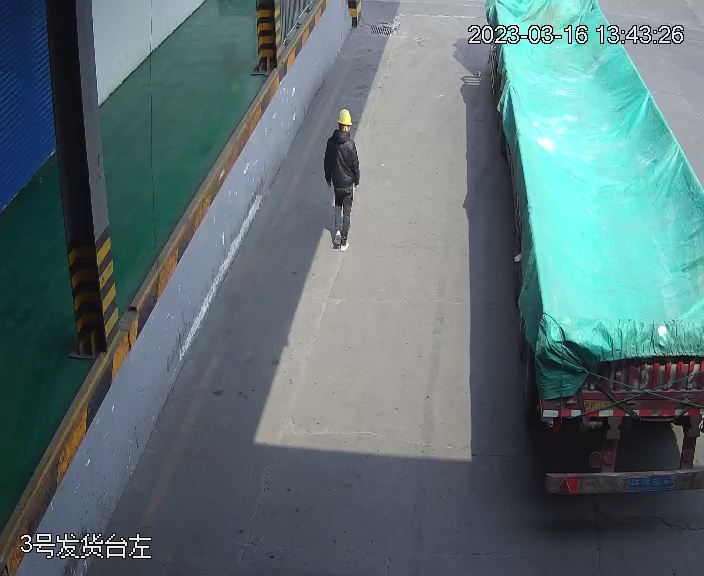head: (327, 108, 357, 154)
helmet: (336, 108, 353, 125)
people: (322, 107, 363, 250)
truck: (489, 2, 704, 495), (487, 1, 702, 493)
